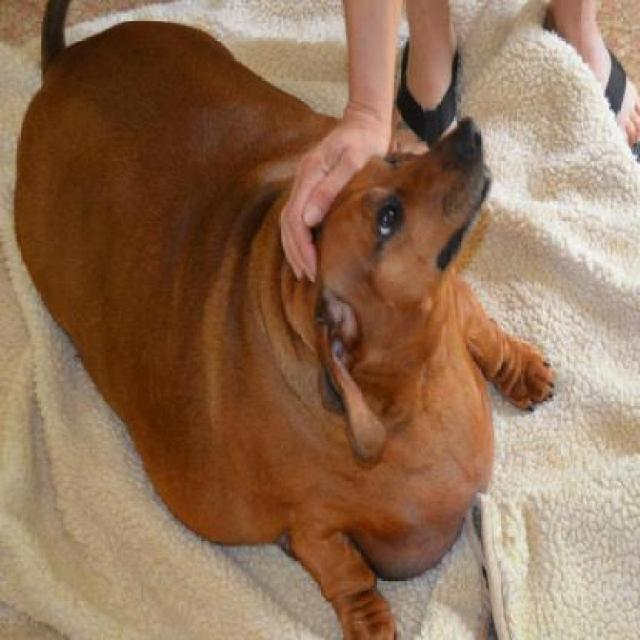Dog: (11, 1, 557, 638)
